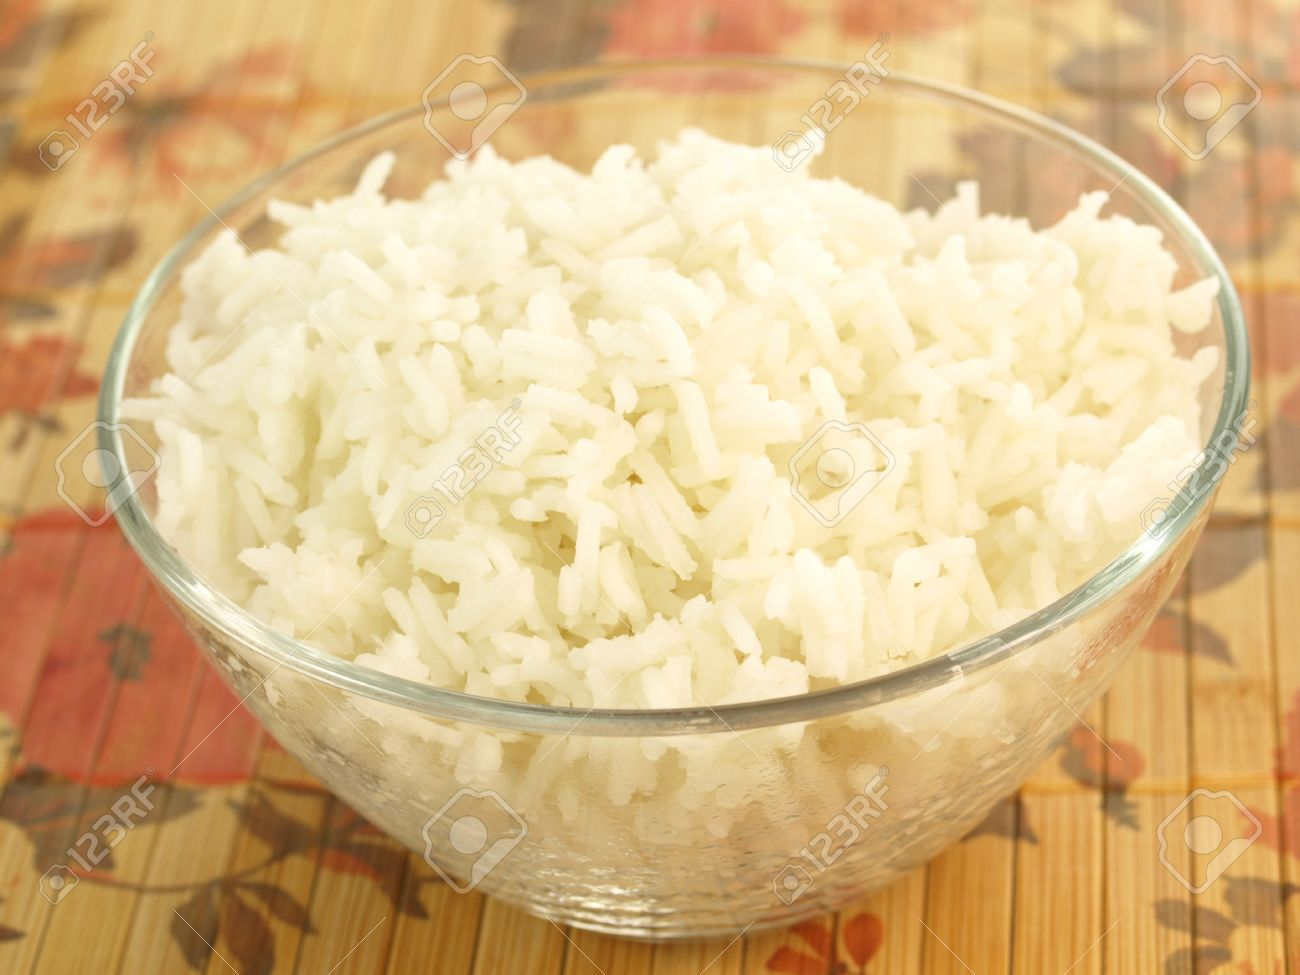rice: (169, 85, 1232, 714)
